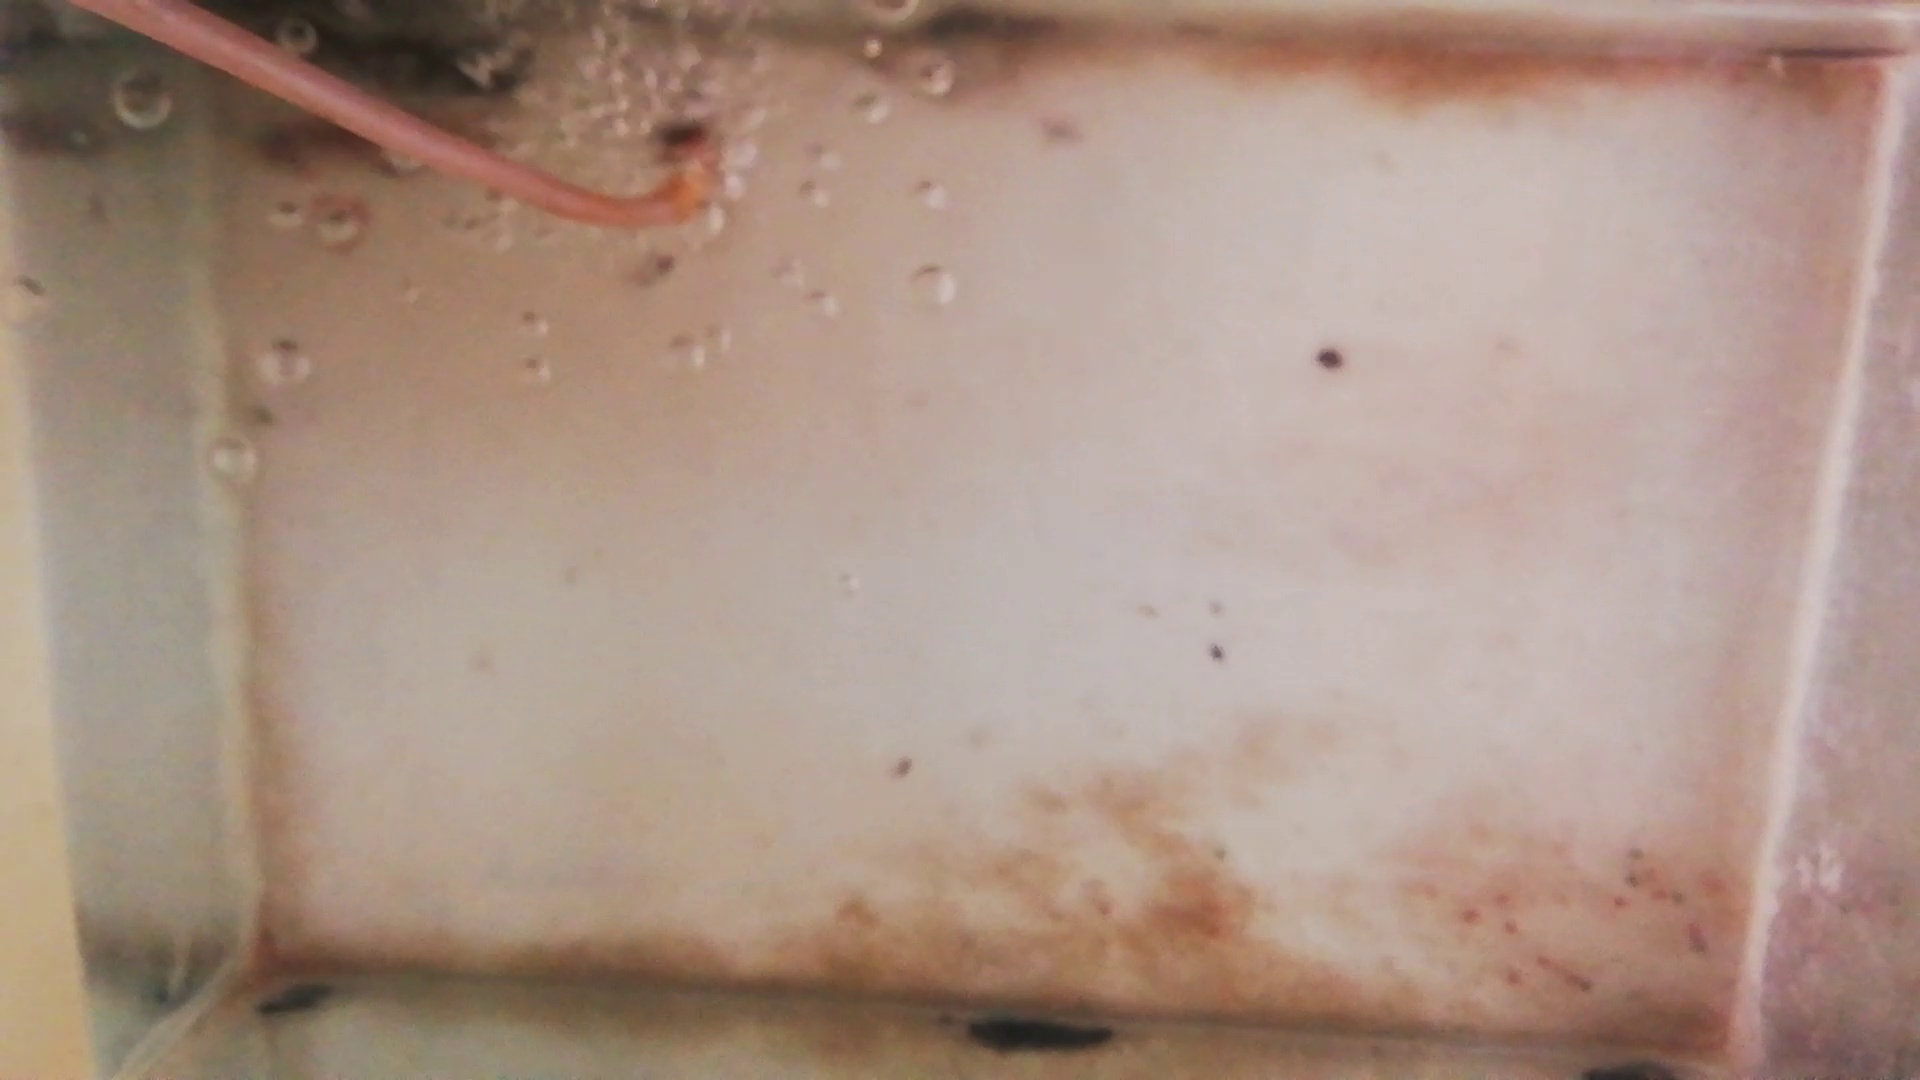fish: (349, 44, 535, 111), (243, 128, 401, 177)
